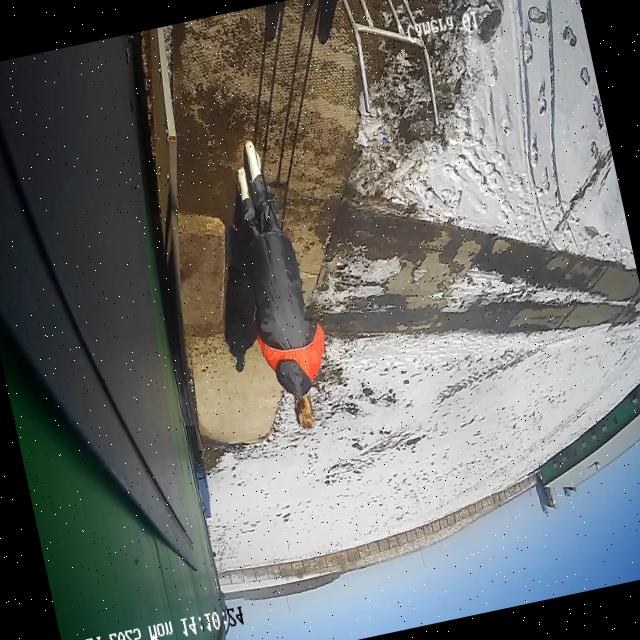Red uniform: (221, 165, 336, 404)
